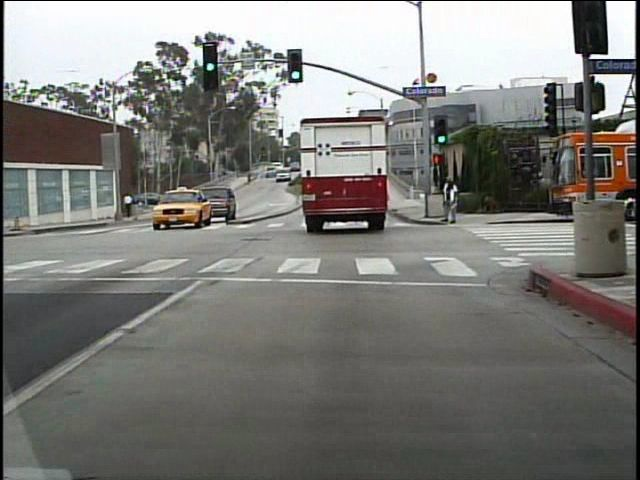person: (438, 174, 463, 228), (122, 188, 139, 220)
